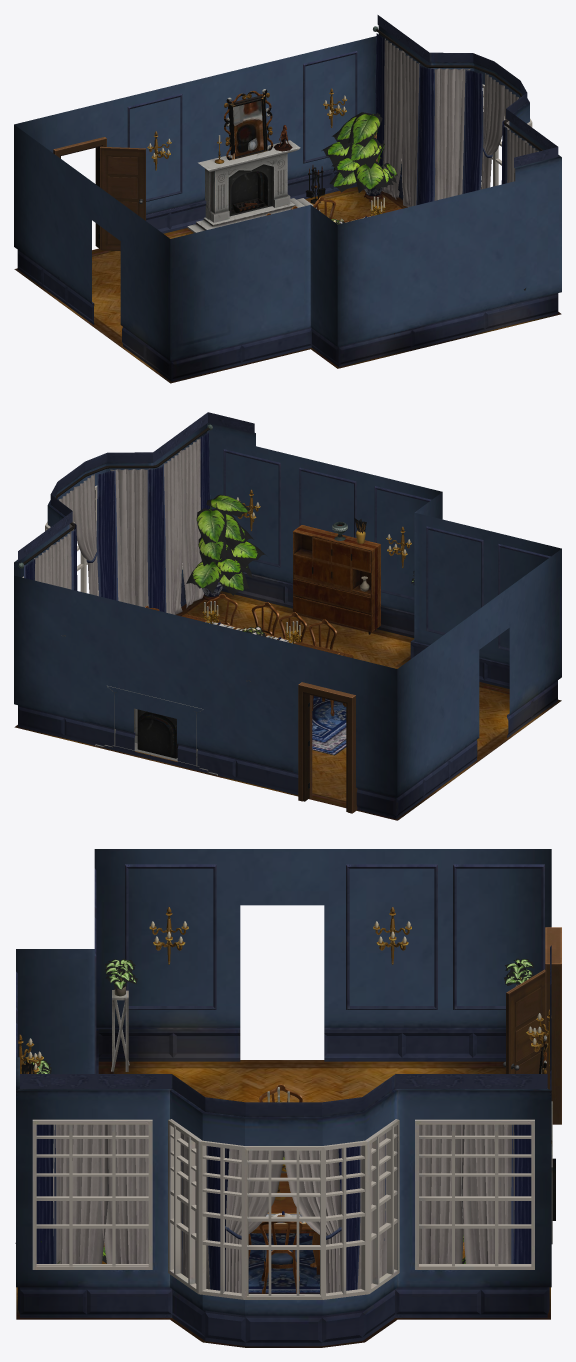
Rendered from diningroom.obj.
3 views of the same model, one above another, from view 1: azimuth 30°, elevation 25°; view 2: azimuth 150°, elevation 25°; view 3: azimuth 270°, elevation 25° (orthographic). The views are drawn at different scales.
Parts seen in each view (by area): view 1: diningroom_walls_2728, diningroom_props_2640, diningroom_props_25306, diningroom_plants_5128, diningroom_door_569, diningroom_props_4, diningroom_props_2328, diningroom_door_274; view 2: diningroom_walls_2728, diningroom_props_2640, diningroom_props_25306, diningroom_plants_5128, diningroom_door_274; view 3: diningroom_walls_2728, diningroom_props_2640, diningroom_props_25306, diningroom_door_569, diningroom_door_274, diningroom_plants_5128, diningroom_props_1377.
Boxes of the visible parts, left/top/right/bottom form: diningroom_walls_2728: left=14, top=15, right=561, bottom=383; diningroom_props_2640: left=375, top=33, right=538, bottom=207; diningroom_props_25306: left=147, top=26, right=542, bottom=334; diningroom_plants_5128: left=321, top=112, right=525, bottom=290; diningroom_door_569: left=100, top=146, right=145, bottom=250; diningroom_props_4: left=233, top=100, right=263, bottom=156; diningroom_props_2328: left=224, top=89, right=272, bottom=160; diningroom_door_274: left=53, top=137, right=106, bottom=248; diningroom_walls_2728: left=14, top=412, right=561, bottom=820; diningroom_props_2640: left=24, top=431, right=210, bottom=614; diningroom_props_25306: left=18, top=424, right=411, bottom=776; diningroom_plants_5128: left=186, top=494, right=414, bottom=636; diningroom_door_274: left=298, top=682, right=357, bottom=813; diningroom_walls_2728: left=16, top=849, right=551, bottom=1347; diningroom_props_2640: left=36, top=1124, right=531, bottom=1293; diningroom_props_25306: left=18, top=907, right=555, bottom=1293; diningroom_door_569: left=503, top=969, right=545, bottom=1073; diningroom_door_274: left=545, top=927, right=561, bottom=1124; diningroom_plants_5128: left=15, top=958, right=534, bottom=1263; diningroom_props_1377: left=28, top=921, right=541, bottom=1102.
Bounding box in the file's own units: 8.68 × 3.46 × 6.96.
